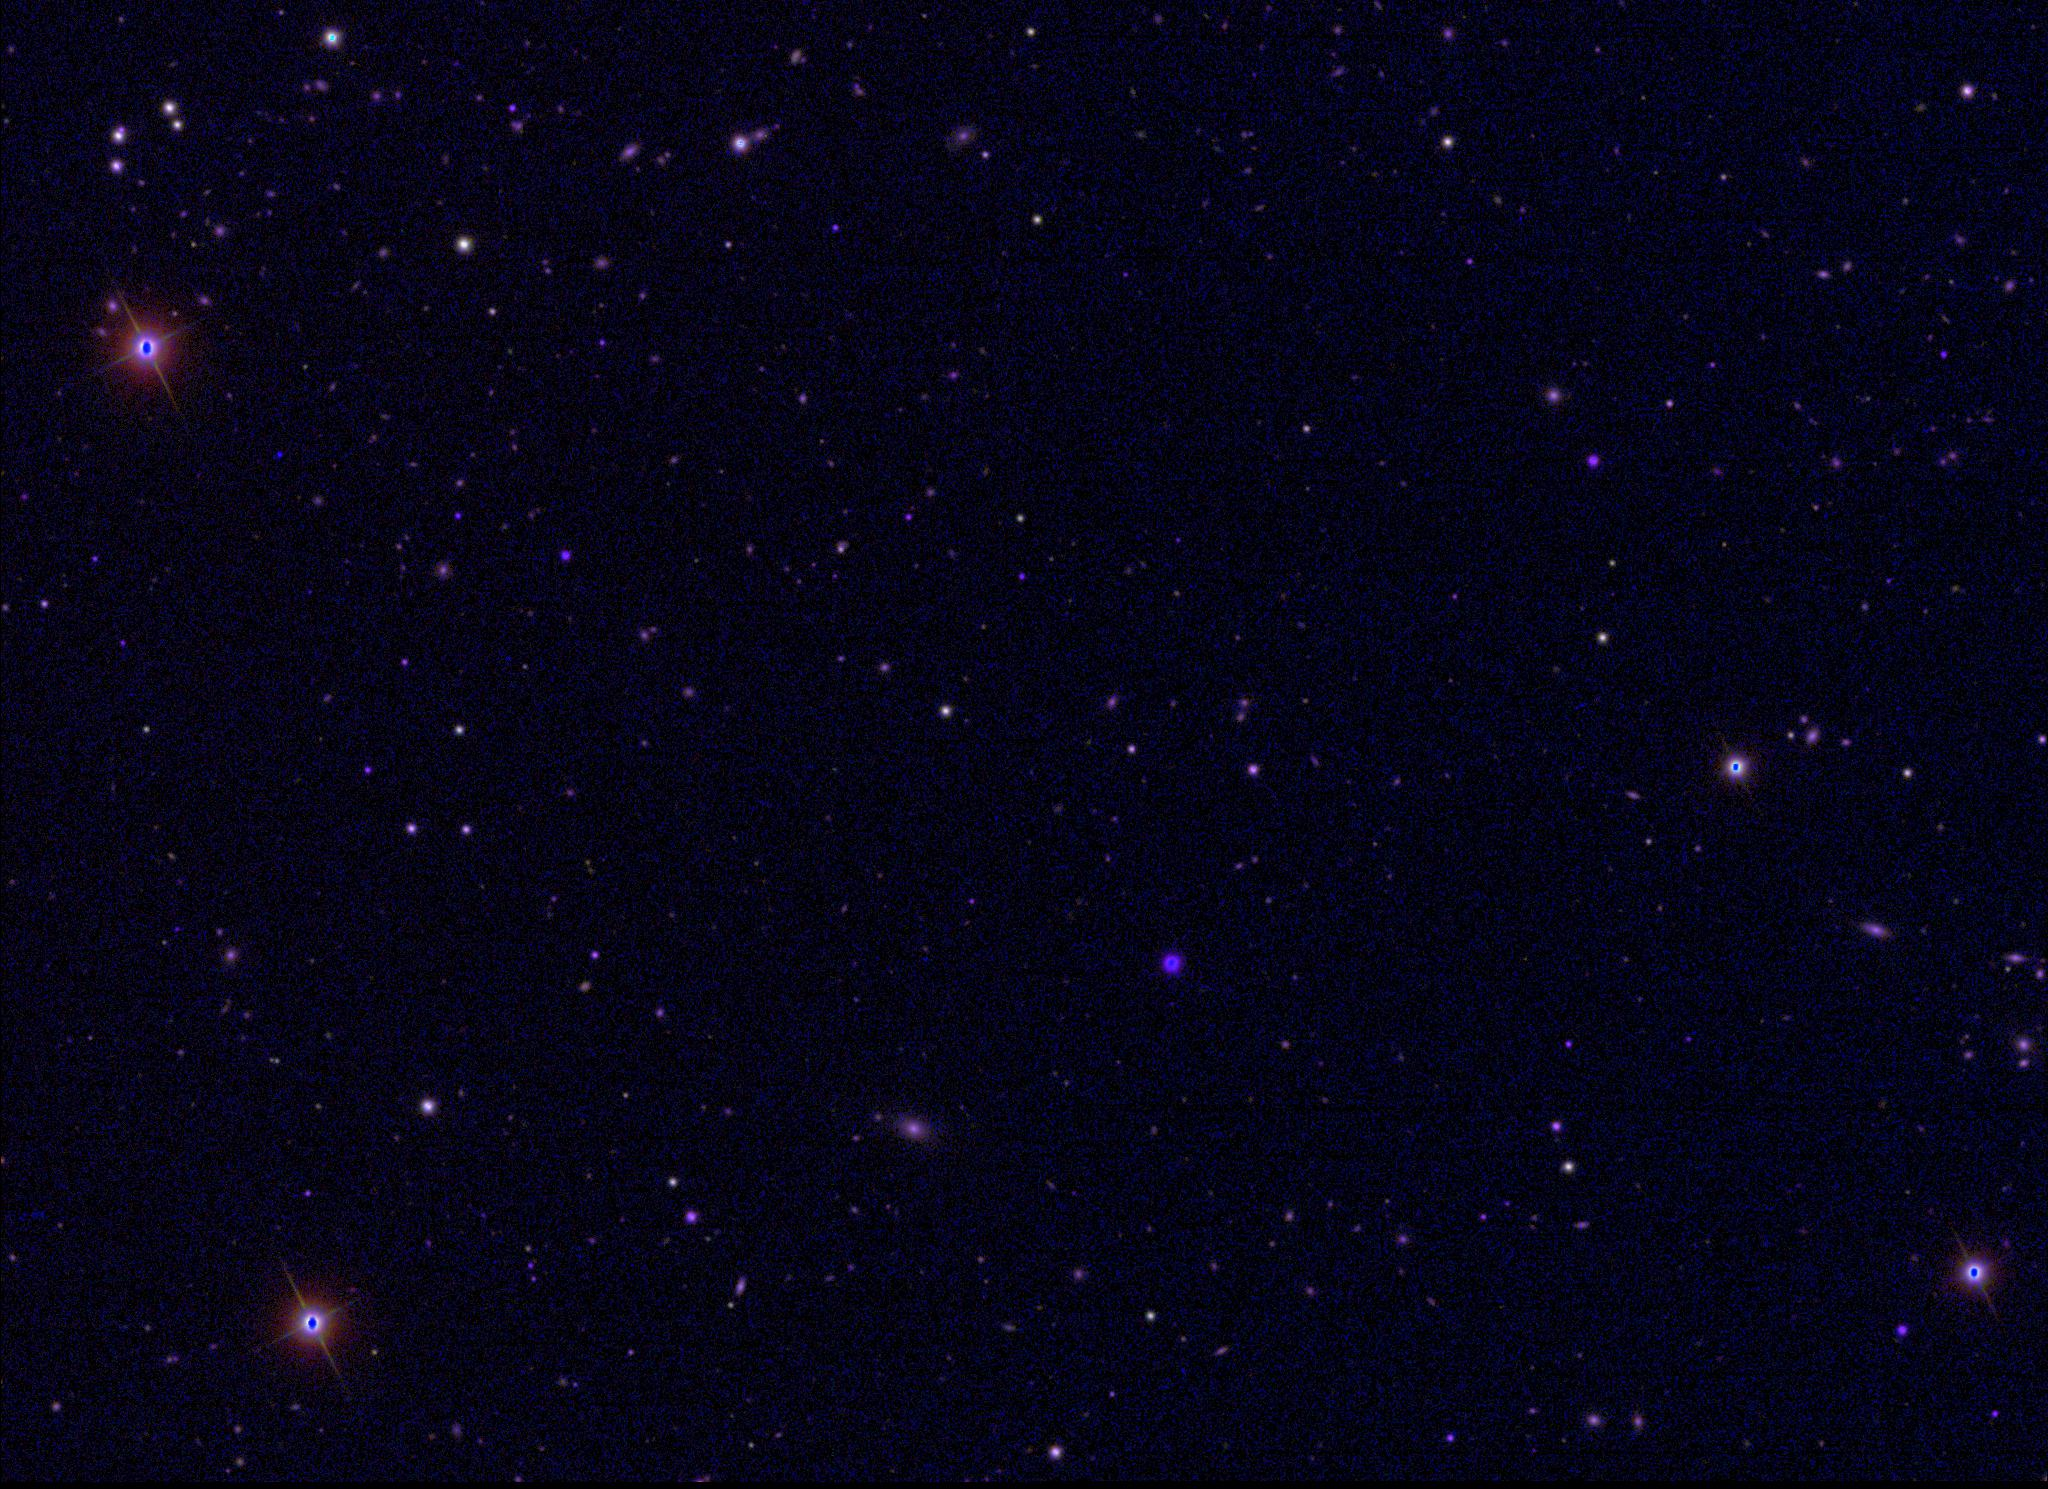L: (273, 449, 286, 461)
